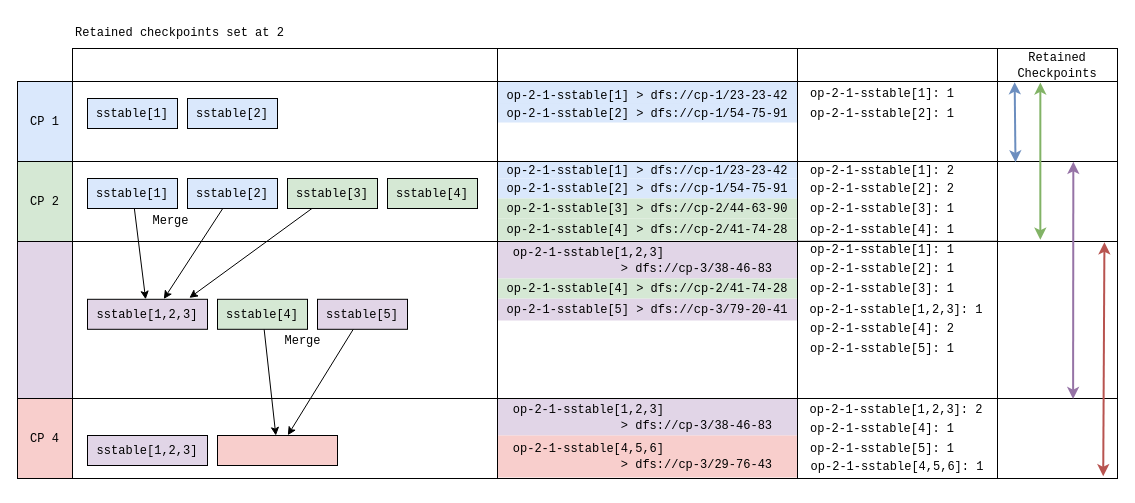
Some shapes in this 1135 by 503 pixel diagram are drawn without their labels. The shapes that lost their labels are listed below. From the top down, each one's centre as x and y in pixels, then its label:
At point (285, 65): "Local RocksDB Directory".
At point (647, 65): "Checkpoint Uploaded DFS File".
At point (897, 65): "State Registry Count".
At point (44, 319): "CP 3".
At point (277, 450): "sstable[4,5,6]".
